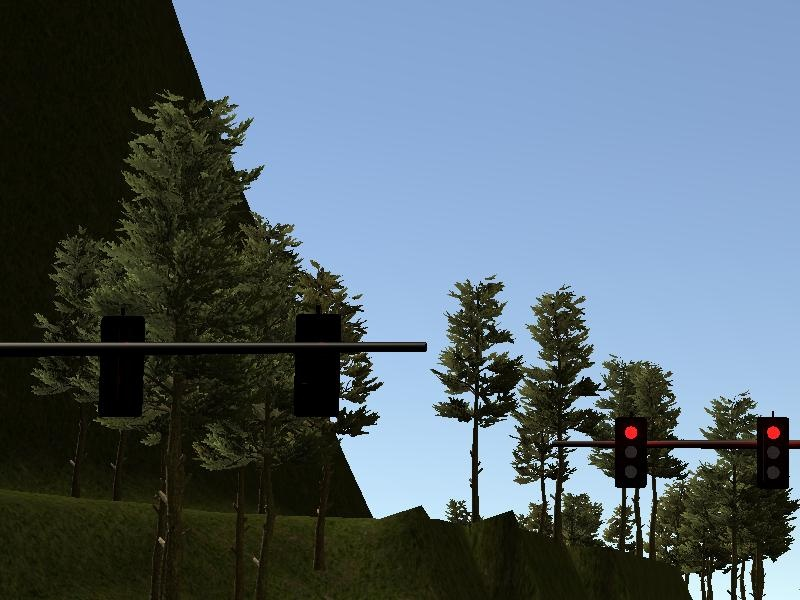Red: (757, 416, 791, 490), (614, 417, 648, 489)
